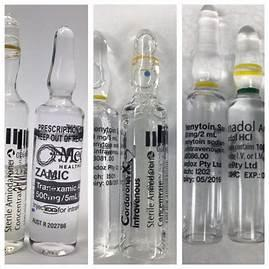Syringe: (30, 12, 82, 256), (120, 24, 170, 260), (180, 5, 228, 247), (228, 21, 266, 244), (4, 0, 30, 259)
